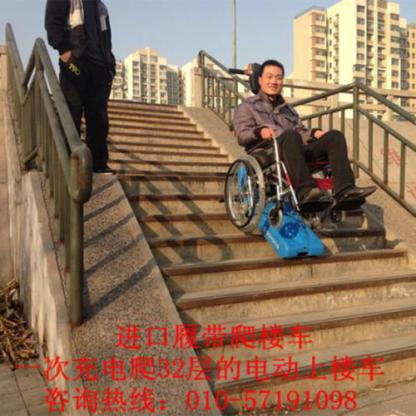wheelchair: (219, 59, 371, 256)
